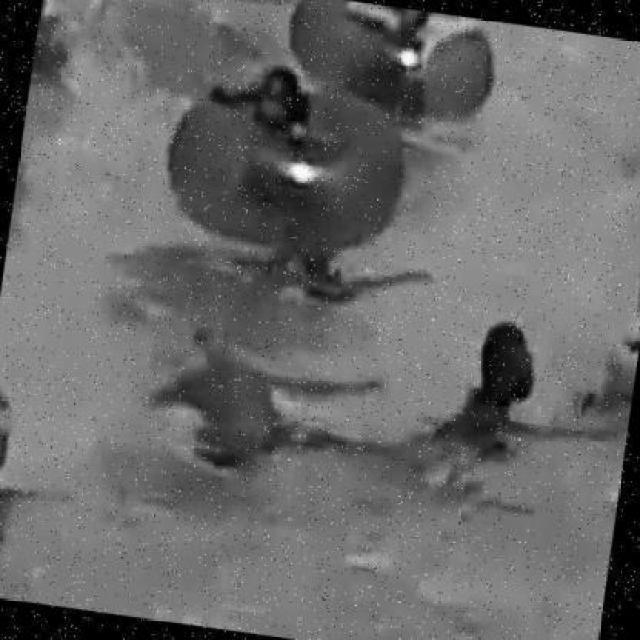drowning: (191, 329, 289, 457), (454, 324, 543, 451)
